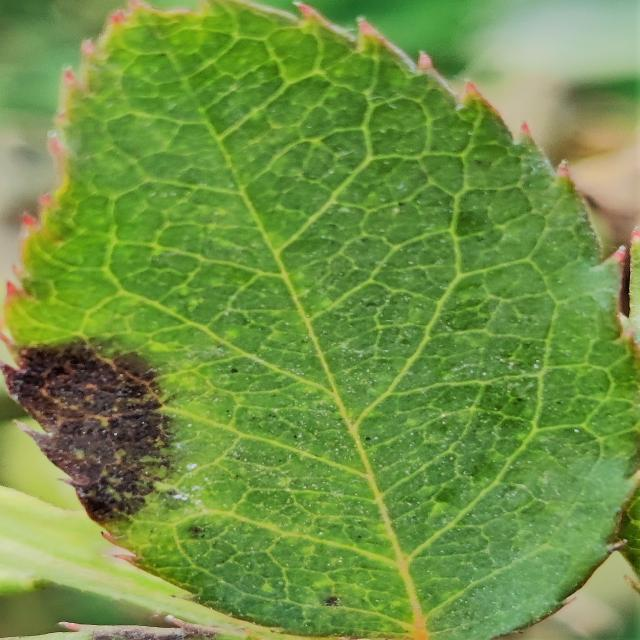Black_spot: (2, 335, 177, 525)
Rose: (1, 1, 638, 638)
